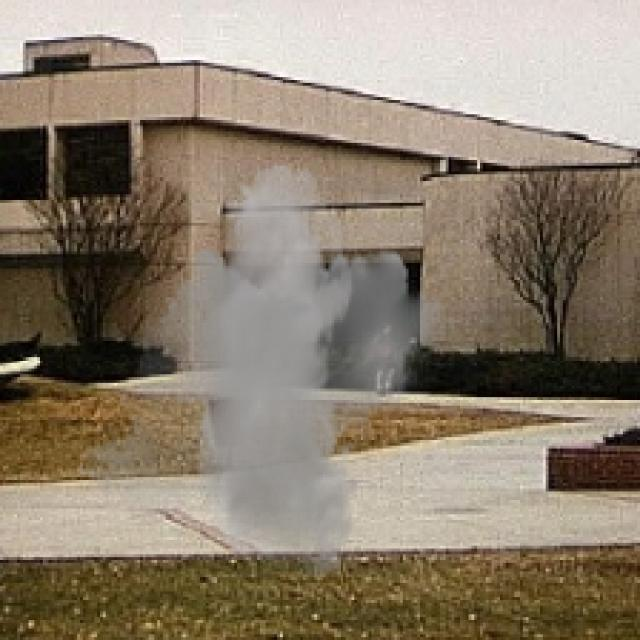Smoke: (74, 163, 457, 580)
